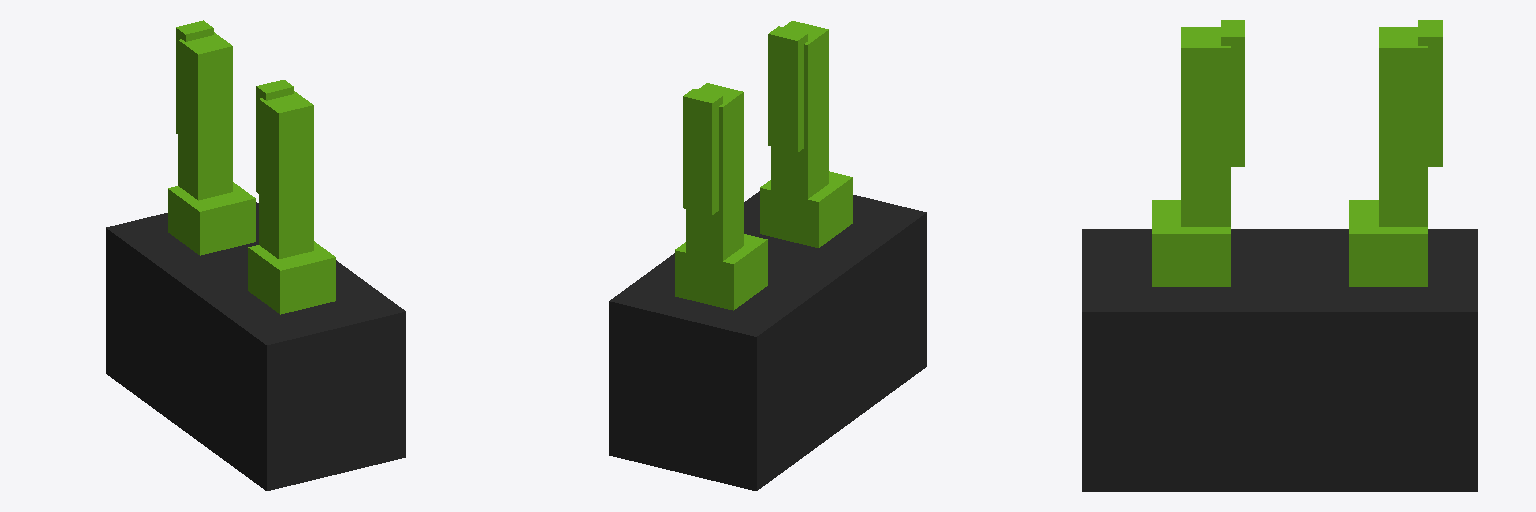
The robot description file, URDF, robot "enpire_so100_gripper":
<?xml version="1.0" encoding="utf-8"?>
<robot name="enpire_so100_gripper">
  <!-- Gripper Base -->
  <link name="gripper_base_link">
    <inertial>
      <origin xyz="0 0 0.02" rpy="0 0 0"/>
      <mass value="0.25"/>
      <inertia ixx="0.0002" ixy="0" ixz="0" iyy="0.0002" iyz="0" izz="0.0001"/>
    </inertial>
    <visual>
      <origin xyz="0 0 0.02" rpy="0 0 0"/>
      <geometry>
        <box size="0.04 0.08 0.04"/>
      </geometry>
      <material name="dark_gray">
        <color rgba="0.2 0.2 0.2 1.0"/>
      </material>
    </visual>
    <collision>
      <origin xyz="0 0 0.02" rpy="0 0 0"/>
      <geometry>
        <box size="0.04 0.08 0.04"/>
      </geometry>
    </collision>
  </link>

  <!-- Left Finger Joint -->
  <joint name="left_finger_joint" type="prismatic">
    <origin xyz="0 0.02 0.04" rpy="0 0 0"/>
    <parent link="gripper_base_link"/>
    <child link="left_finger_link"/>
    <axis xyz="0 1 0"/>
    <limit lower="0.0" upper="0.0300" effort="50" velocity="0.2"/>
    <dynamics damping="1.0" friction="0.1"/>
  </joint>

  <!-- Left Finger Link -->
  <link name="left_finger_link">
    <inertial>
      <origin xyz="0 0.01 0.035" rpy="0 0 0"/>
      <mass value="0.025"/>
      <inertia ixx="0.00003" ixy="0" ixz="0" iyy="0.00003" iyz="0" izz="0.00001"/>
    </inertial>
    <visual>
      <origin xyz="0 0 0" rpy="0 0 0"/>
      <geometry>
        <mesh filename="../stl/mobile_aloha_so100/so100_enpire_finger_left.stl" scale="0.001 0.001 0.001"/>
      </geometry>
      <material name="nvidia_green">
        <color rgba="0.45 0.75 0.15 1.0"/>
      </material>
    </visual>
    <collision>
      <origin xyz="0 0 0" rpy="0 0 0"/>
      <geometry>
        <mesh filename="../stl/mobile_aloha_so100/so100_enpire_finger_left.stl" scale="0.001 0.001 0.001"/>
      </geometry>
    </collision>
  </link>

  <!-- Right Finger Joint -->
  <joint name="right_finger_joint" type="prismatic">
    <origin xyz="0 -0.02 0.04" rpy="0 0 0"/>
    <parent link="gripper_base_link"/>
    <child link="right_finger_link"/>
    <axis xyz="0 -1 0"/>
    <limit lower="0.0" upper="0.0300" effort="50" velocity="0.2"/>
    <dynamics damping="1.0" friction="0.1"/>
    <mimic joint="left_finger_joint" multiplier="1.0" offset="0.0"/>
  </joint>

  <!-- Right Finger Link -->
  <link name="right_finger_link">
    <inertial>
      <origin xyz="0 -0.01 0.035" rpy="0 0 0"/>
      <mass value="0.025"/>
      <inertia ixx="0.00003" ixy="0" ixz="0" iyy="0.00003" iyz="0" izz="0.00001"/>
    </inertial>
    <visual>
      <origin xyz="0 0 0" rpy="0 0 0"/>
      <geometry>
        <mesh filename="../stl/mobile_aloha_so100/so100_enpire_finger_right.stl" scale="0.001 0.001 0.001"/>
      </geometry>
      <material name="nvidia_green">
        <color rgba="0.45 0.75 0.15 1.0"/>
      </material>
    </visual>
    <collision>
      <origin xyz="0 0 0" rpy="0 0 0"/>
      <geometry>
        <mesh filename="../stl/mobile_aloha_so100/so100_enpire_finger_right.stl" scale="0.001 0.001 0.001"/>
      </geometry>
    </collision>
  </link>

  <!-- Tool Center Point (TCP) Frame -->
  <joint name="tcp_joint" type="fixed">
    <origin xyz="0 0 0.075" rpy="0 0 0"/>
    <parent link="gripper_base_link"/>
    <child link="tcp_link"/>
  </joint>
  <link name="tcp_link"/>
</robot>

--- Facts derived from the render (not from the file) ---
Views: 3 orthographic renders of the robot side by side, from view 1: azimuth 30°, elevation 25°; view 2: azimuth 150°, elevation 25°; view 3: azimuth 270°, elevation 25°.
Model enpire_so100_gripper with 4 links and 3 joints (2 prismatic, 1 fixed), rooted at gripper_base_link, posed every joint at zero.
Visible links, largest first — view 1: gripper_base_link, right_finger_link, left_finger_link; view 2: gripper_base_link, right_finger_link, left_finger_link; view 3: gripper_base_link, right_finger_link, left_finger_link.
Boxes of the visible links, <box> form: gripper_base_link: <box>106,202,405,490</box>; right_finger_link: <box>248,80,335,314</box>; left_finger_link: <box>168,20,255,255</box>; gripper_base_link: <box>609,191,926,490</box>; right_finger_link: <box>760,21,852,247</box>; left_finger_link: <box>675,83,767,310</box>; gripper_base_link: <box>1082,229,1477,491</box>; right_finger_link: <box>1152,20,1244,286</box>; left_finger_link: <box>1349,20,1442,286</box>.
Bounding box of the posed robot: 0.04 × 0.08 × 0.094 m (x, y, z).
Meshes: 2 distinct files referenced, 2 mesh visuals loaded (2 binary STL).
